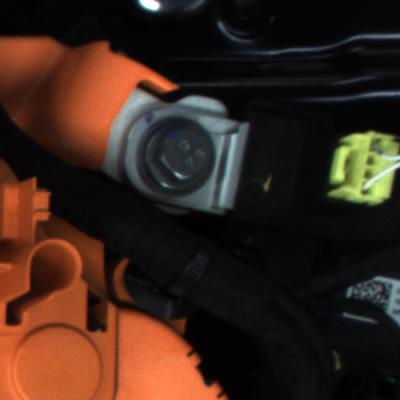nut_b: (127, 111, 226, 205)
